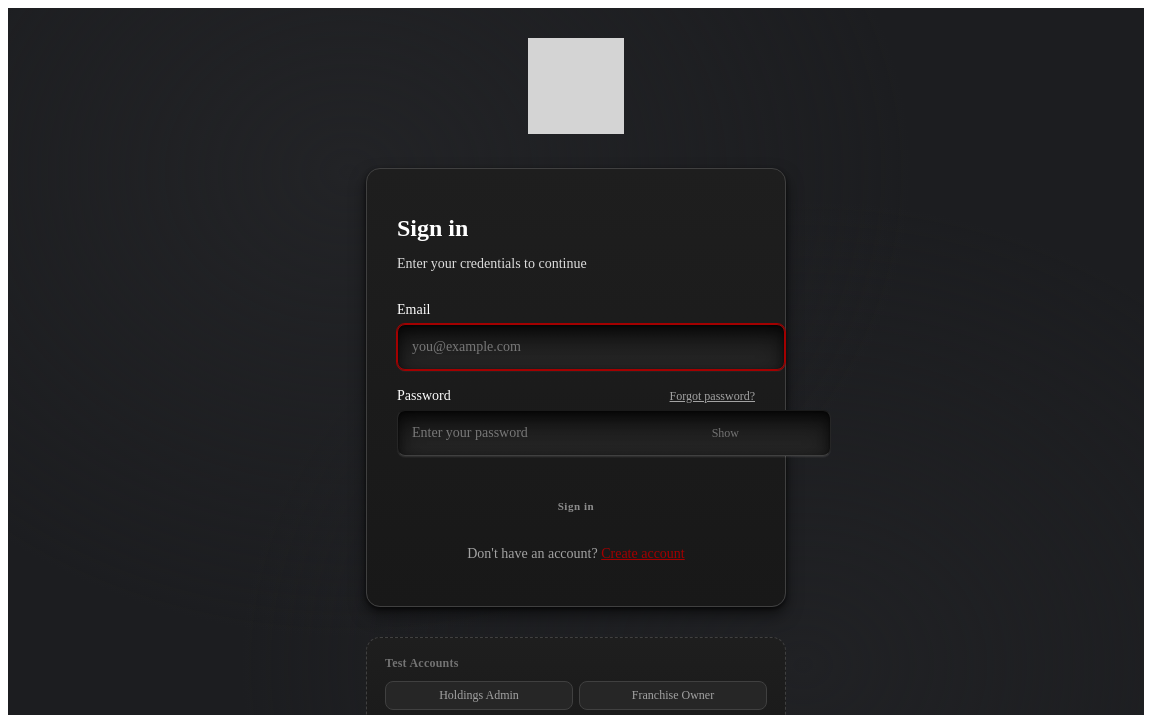
Test: failed login › displays fallback error when no server message available
The width and height of the screenshot is (1152, 715).
In the field with placeholder "you@example.com": x=591, y=347 [397,324,785,370], type "bad@test.com"
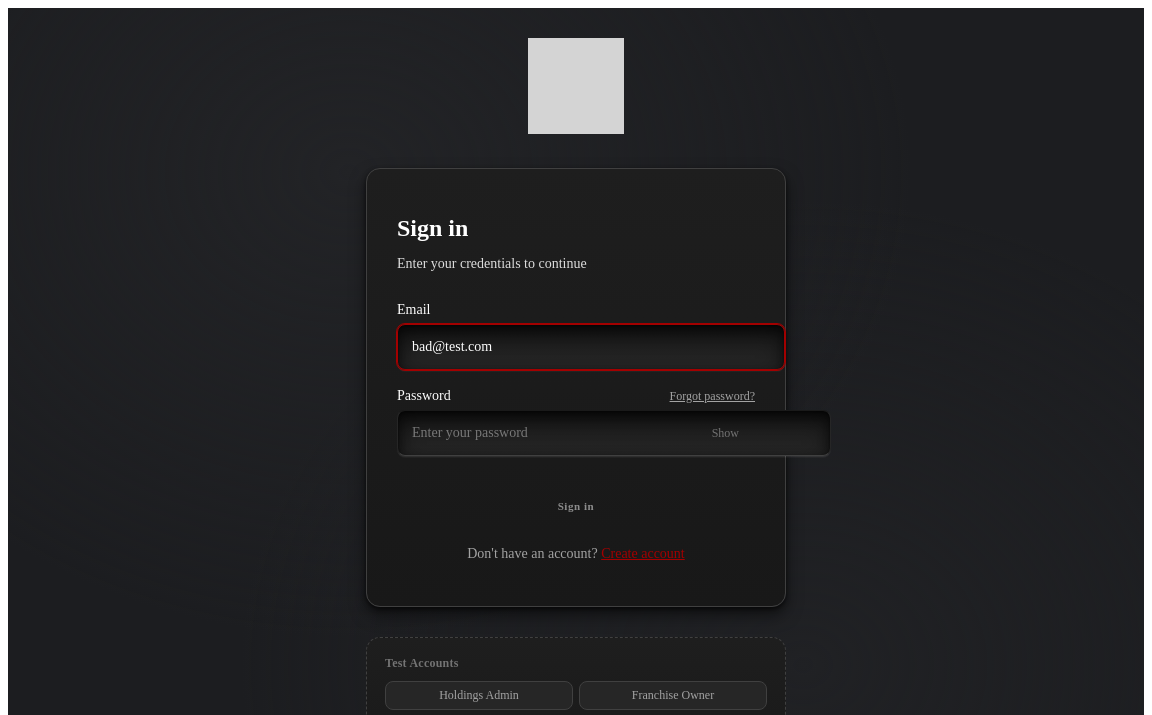
In the password field with placeholder "Enter your password": x=614, y=433 [397,410,831,456], type "wrong"
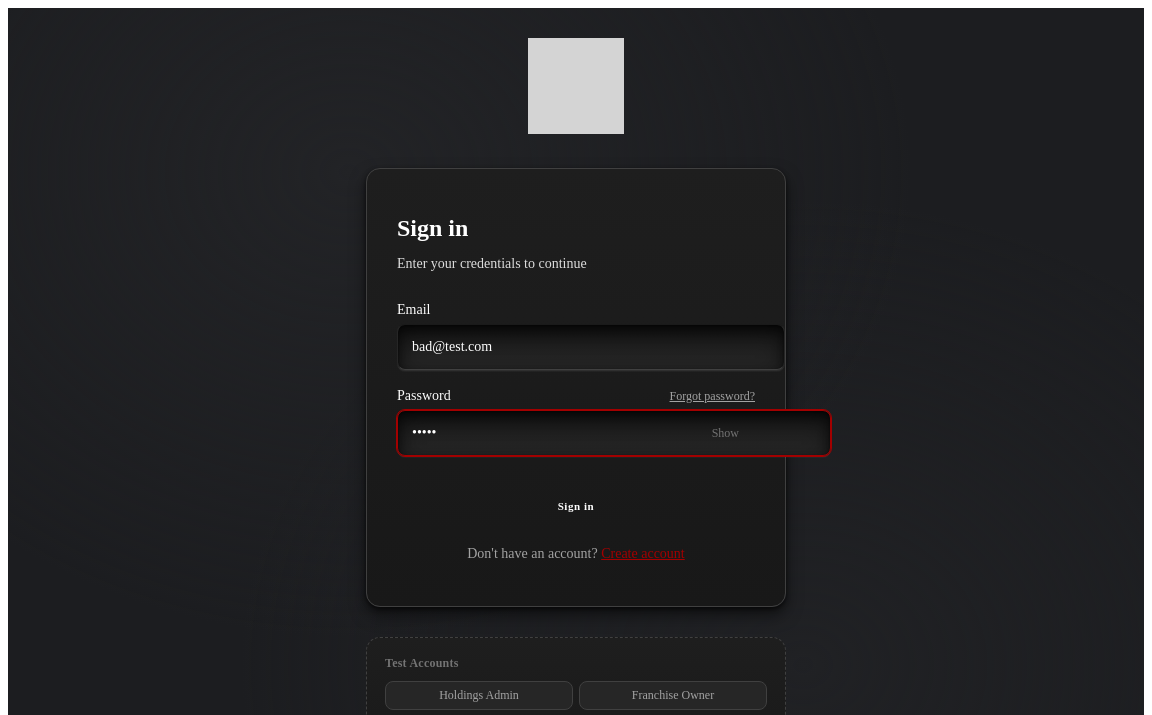
Click the button "Sign in": x=576, y=506 [397,484,755,528]
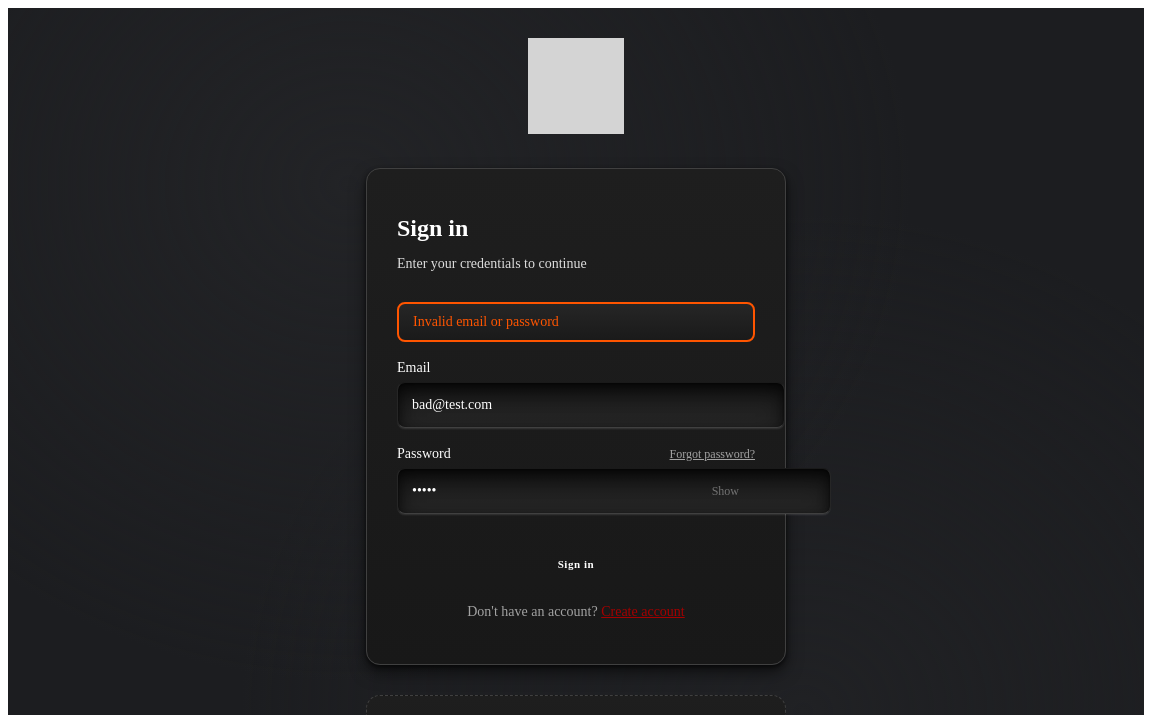
Expected: the text "Invalid email or password" is shown, [397,302,755,342]
